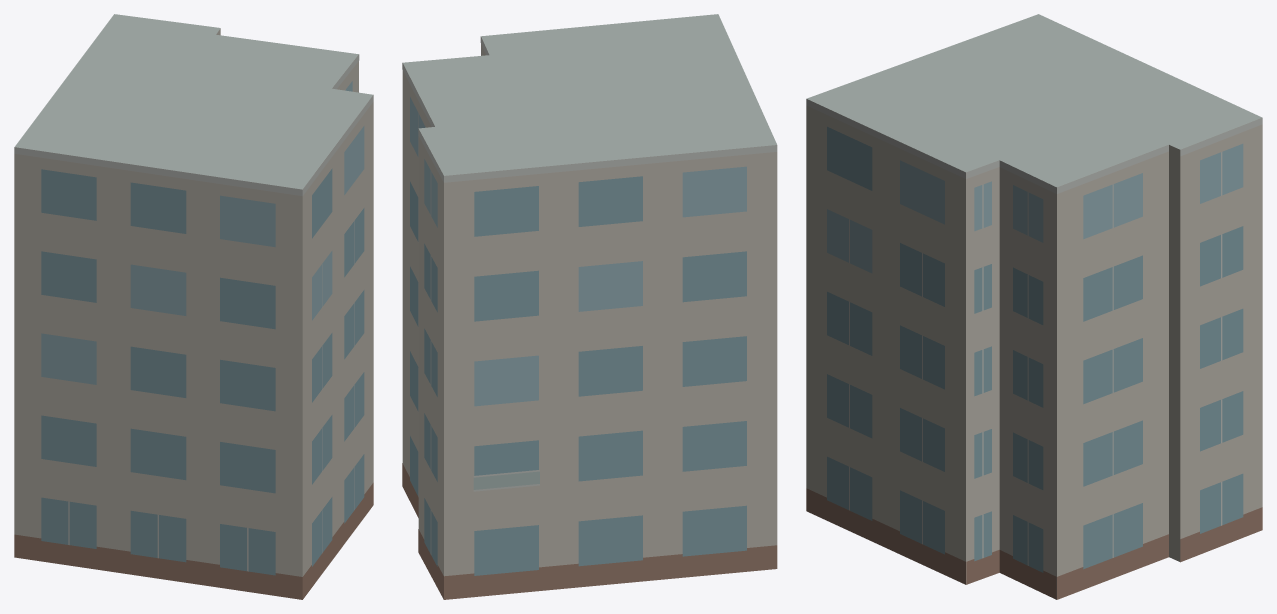
Rendered from survey-upis-32742732.glb.
3 renders of one model, left to right at view 1: azimuth 30°, elevation 25°; view 2: azimuth 150°, elevation 25°; view 3: azimuth 270°, elevation 25°, orthographic. The views are drawn at different scales.
Parts seen in each view (by area): view 1: survey-upis-32742732.tmp; view 2: survey-upis-32742732.tmp; view 3: survey-upis-32742732.tmp.
Part boxes in pixels (<box>): survey-upis-32742732.tmp: <box>14,14,373,599</box>; survey-upis-32742732.tmp: <box>402,14,777,599</box>; survey-upis-32742732.tmp: <box>806,14,1262,599</box>.
Bounding box in the file's own units: 13.58 × 15.05 × 15.1.
